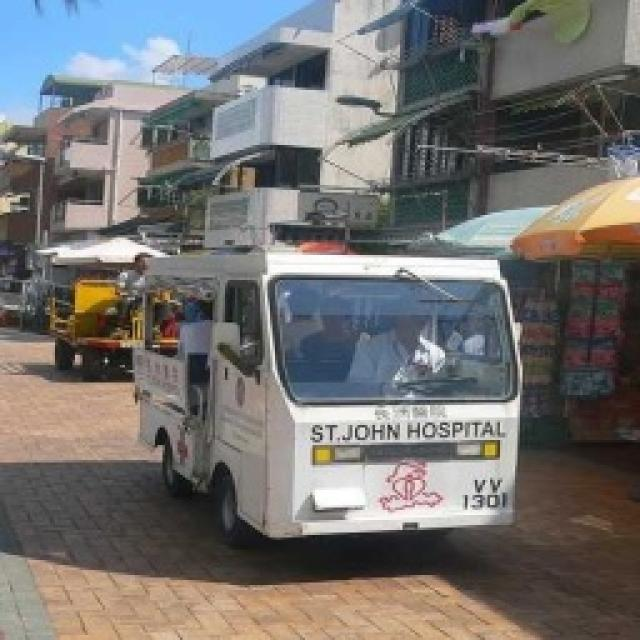emergency-vehicle: (107, 171, 531, 553)
